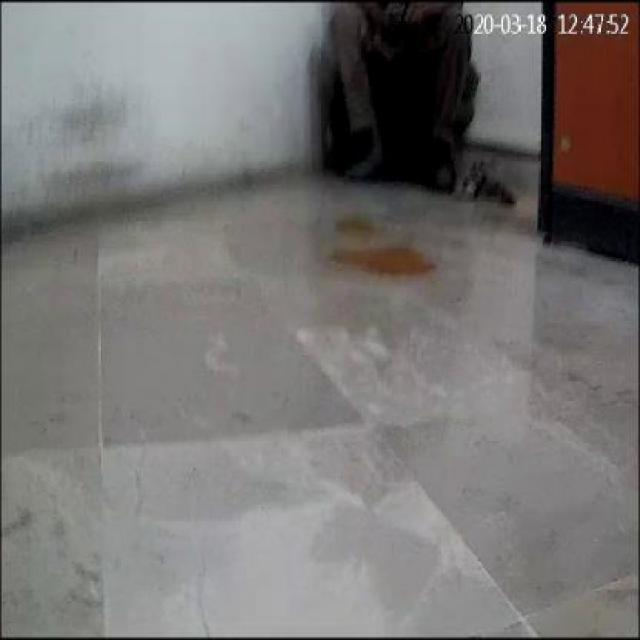spill: (324, 222, 444, 284)
